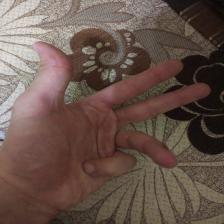five: (22, 40, 156, 166)
